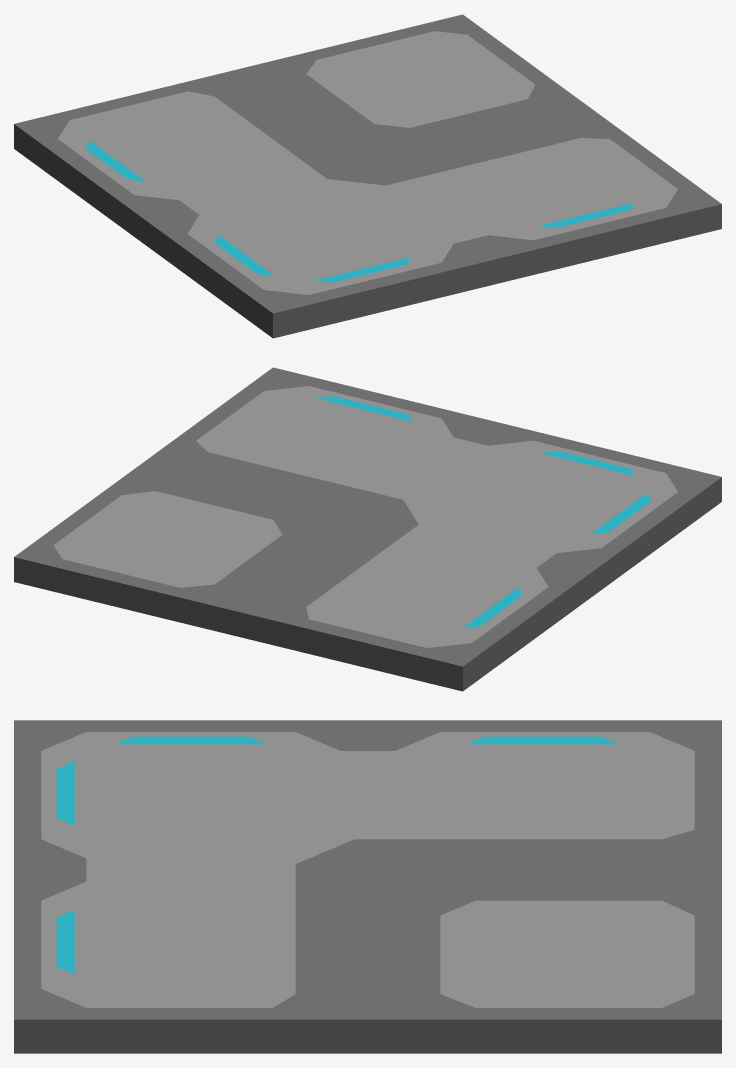
The model's file is tile_platform_007.fbx.
3 views of the same model, one above another, from view 1: azimuth 30°, elevation 25°; view 2: azimuth 150°, elevation 25°; view 3: azimuth 270°, elevation 25° (orthographic). The views are drawn at different scales.
Parts seen in each view (by area): view 1: tile_platform_007; view 2: tile_platform_007; view 3: tile_platform_007.
Boxes of the visible parts, x1,y1,x2,y2 form: tile_platform_007: (14,14,721,338); tile_platform_007: (14,367,721,691); tile_platform_007: (14,720,721,1053).
Size of the model in its own units: 400 by 400 by 22.3.
